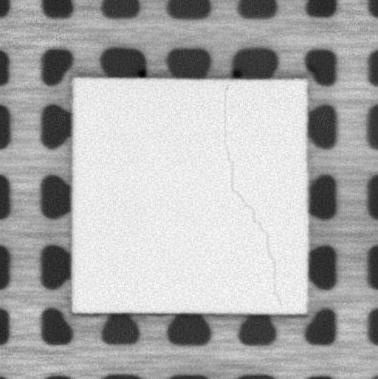DIE_CRACK: (219, 85, 282, 305)
